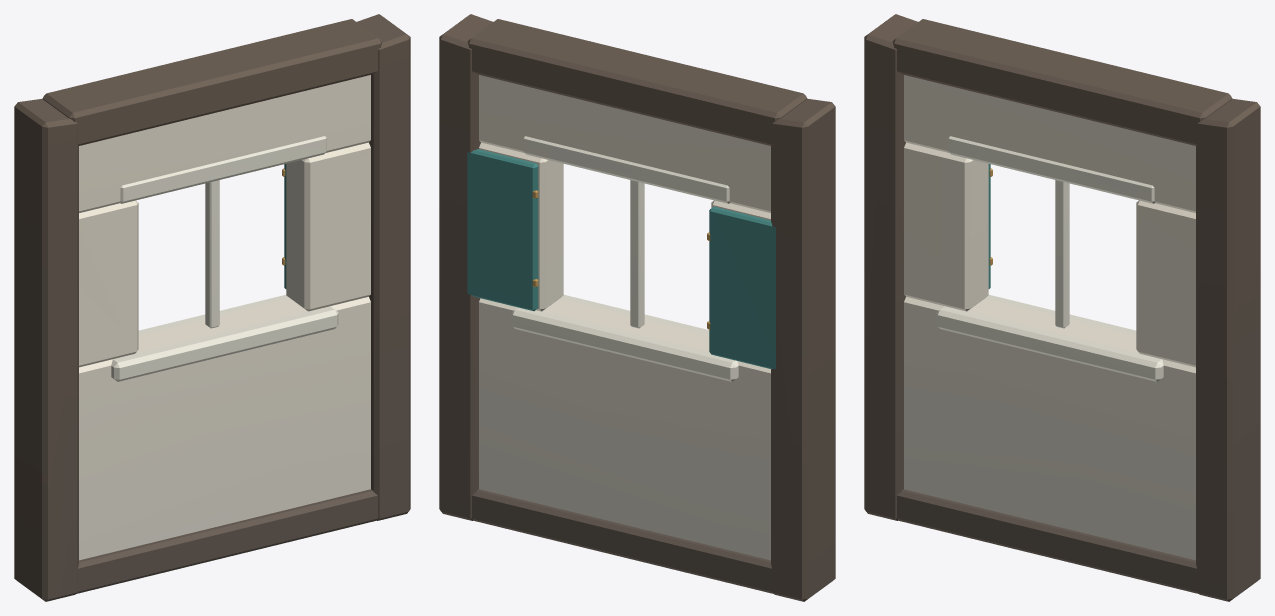
File: Kit_WallWindow.glb
3 renders of one model, left to right at view 1: azimuth 30°, elevation 25°; view 2: azimuth 150°, elevation 25°; view 3: azimuth 330°, elevation 25°, orthographic.
Visible parts, largest first — view 1: Warm limewashed plaster, Weathered walnut beams, Carved pale limestone; view 2: Weathered walnut beams, Warm limewashed plaster, Painted teal shutters, Carved pale limestone; view 3: Warm limewashed plaster, Weathered walnut beams, Carved pale limestone.
Part boxes in pixels (box(x1,y1,x2,y2)): Warm limewashed plaster: box(79, 75, 370, 560); Weathered walnut beams: box(14, 14, 410, 601); Carved pale limestone: box(111, 136, 338, 381); Weathered walnut beams: box(439, 14, 835, 601); Warm limewashed plaster: box(479, 75, 770, 560); Painted teal shutters: box(467, 149, 775, 369); Carved pale limestone: box(511, 136, 738, 381); Warm limewashed plaster: box(904, 75, 1195, 560); Weathered walnut beams: box(864, 14, 1260, 601); Carved pale limestone: box(936, 136, 1163, 381).
Size of the model in its own units: 2 by 2.5 by 0.3.
